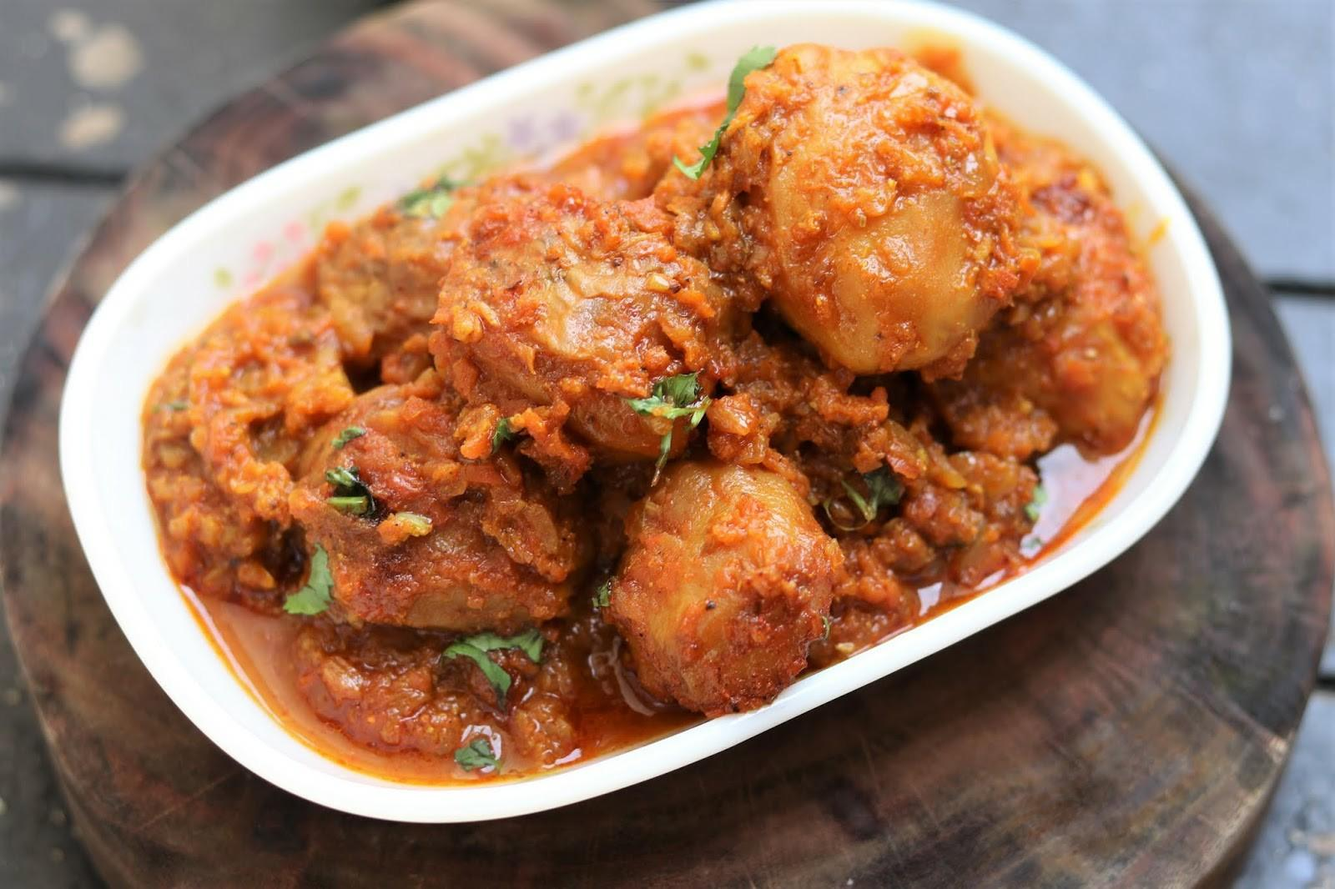DumAloo: (139, 44, 1178, 787)
